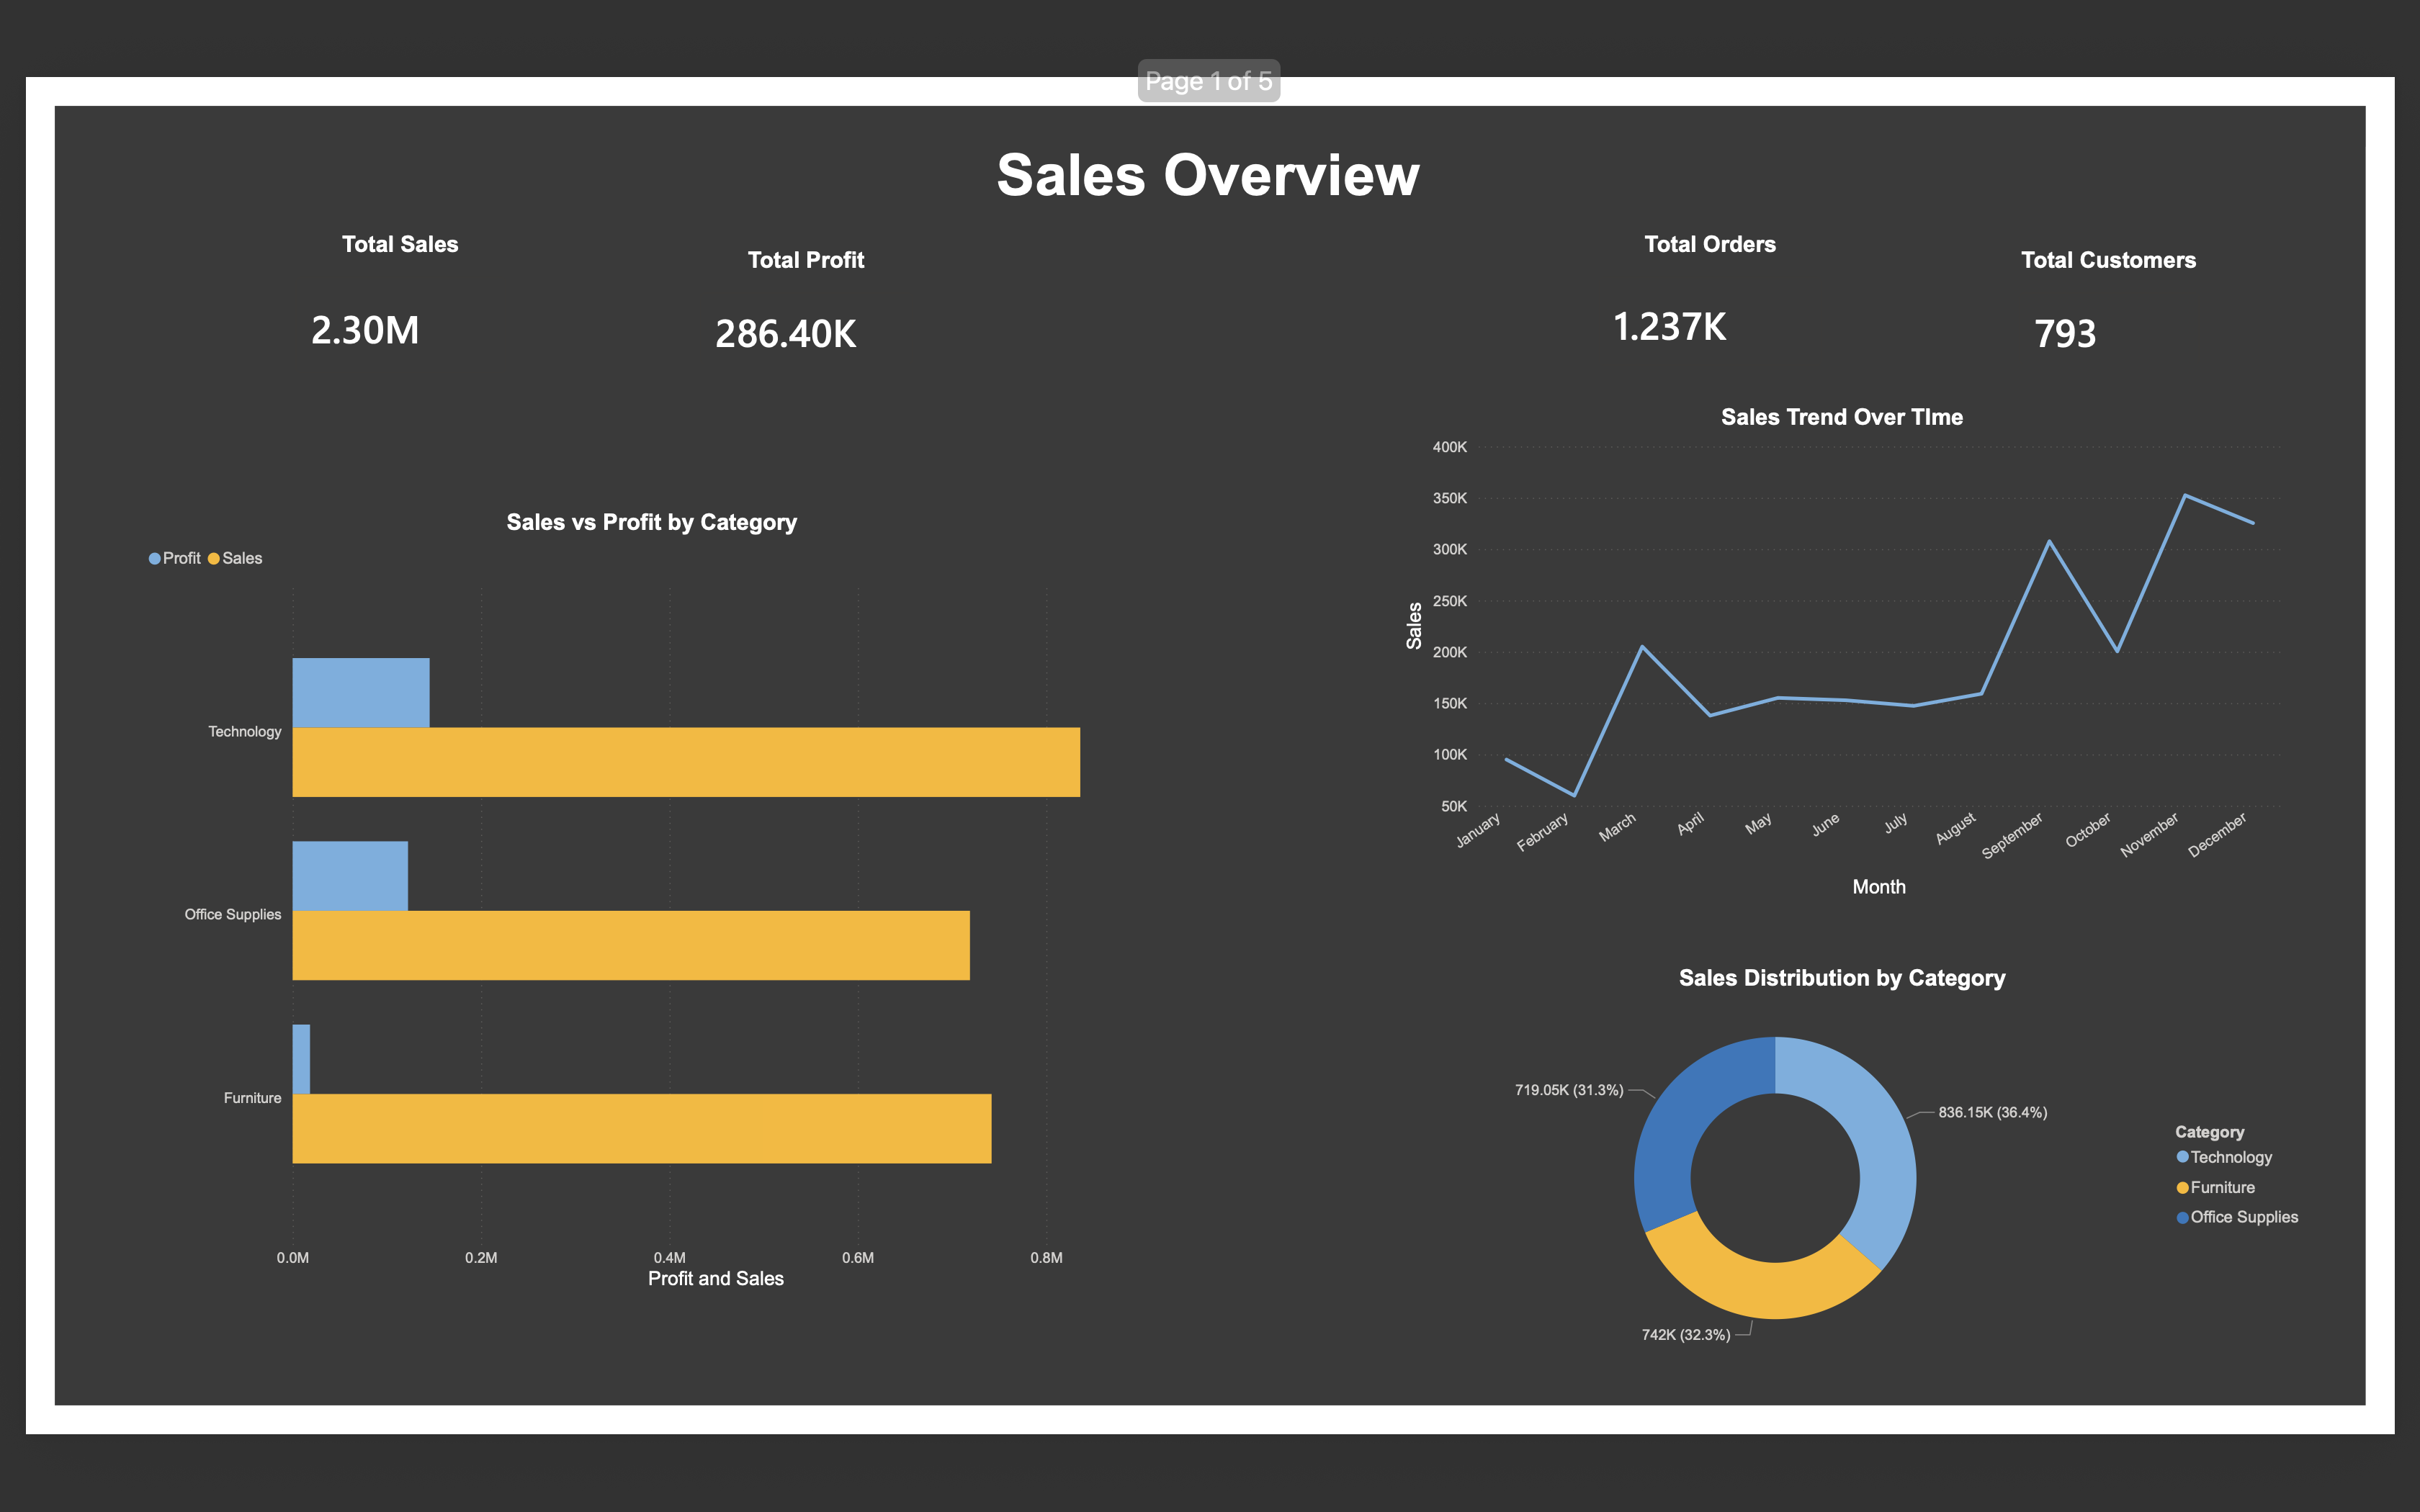

This screenshot's page, from the dashboard's own definition file:
{"tool":"powerbi","page":{"name":"Sales Overview","canvas":[1920,1080],"ordinal":0},"visuals":[{"type":"cardVisual","title":"Total Sales","fields":{"Data":["Sum(Sample - Superstore 3.Sales)"]},"box":[182.6,103.8,209.4,135.7],"z":0},{"type":"cardVisual","title":"Total Profit","fields":{"Data":["Sum(Sample - Superstore 3.Profit)"]},"box":[519.2,117.2,211,115.6],"z":1000},{"type":"cardVisual","title":"Total Orders","fields":{"Data":["Count(Sample - Superstore 3.Order Date)"]},"box":[1266.3,103.8,219.4,129],"z":2000},{"type":"cardVisual","title":"Total Customers","fields":{"Data":["Count(Sample - Superstore 3.Customer ID)"]},"box":[1614.6,117.2,184.2,115.6],"z":3000},{"type":"textbox","box":[750.4,25.1,417.1,72],"z":4000},{"type":"lineChart","title":"Sales Trend Over TIme","fields":{"Category":["Sample - Superstore 3.Order Date.Variation.Date Hierarchy.Month"],"Y":["Sum(Sample - Superstore 3.Sales)"]},"box":[1117.2,247.9,737,413.7],"z":5000},{"type":"donutChart","title":"Sales Distribution by Category","fields":{"Y":["Sum(Sample - Superstore 3.Sales)"],"Category":["Sample - Superstore 3.Category"]},"box":[1092.1,713.5,787.2,333.3],"z":6000},{"type":"clusteredBarChart","title":"Sales vs Profit by Category","fields":{"Y":["Sum(Sample - Superstore 3.Profit)","Sum(Sample - Superstore 3.Sales)"],"Category":["Sample - Superstore 3.Category"]},"box":[72,335,849.2,653.2],"z":7000}]}

Visuals, with their boxes on the page's 1920x1080 design canvas (x1, y1, x2, y2). These are canvas units, not pixel positions in the 2420x1512 screenshot, which may show the page scaled, cropped or inside an application window:
"Total Sales" cardVisual: BBox(183, 104, 392, 240)
"Total Profit" cardVisual: BBox(519, 117, 730, 233)
"Total Orders" cardVisual: BBox(1266, 104, 1486, 233)
"Total Customers" cardVisual: BBox(1615, 117, 1799, 233)
textbox: BBox(750, 25, 1168, 97)
"Sales Trend Over TIme" lineChart: BBox(1117, 248, 1854, 662)
"Sales Distribution by Category" donutChart: BBox(1092, 714, 1879, 1047)
"Sales vs Profit by Category" clusteredBarChart: BBox(72, 335, 921, 988)
